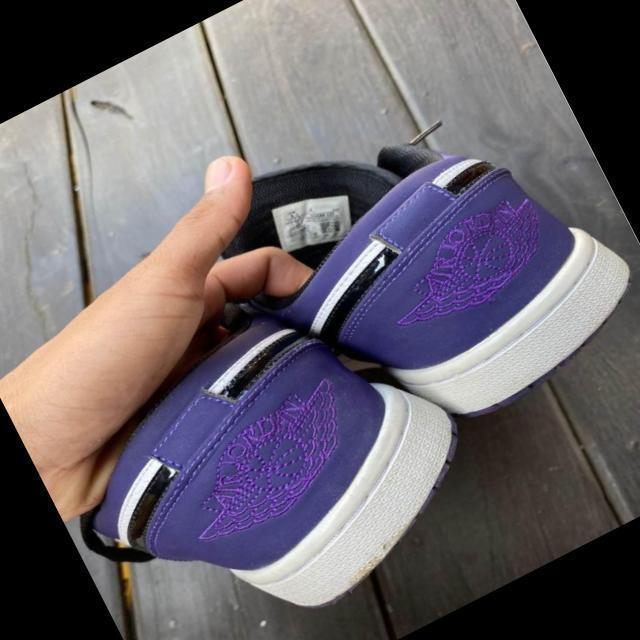nike fake jordan 1: (17, 249, 510, 640), (286, 94, 640, 457)
